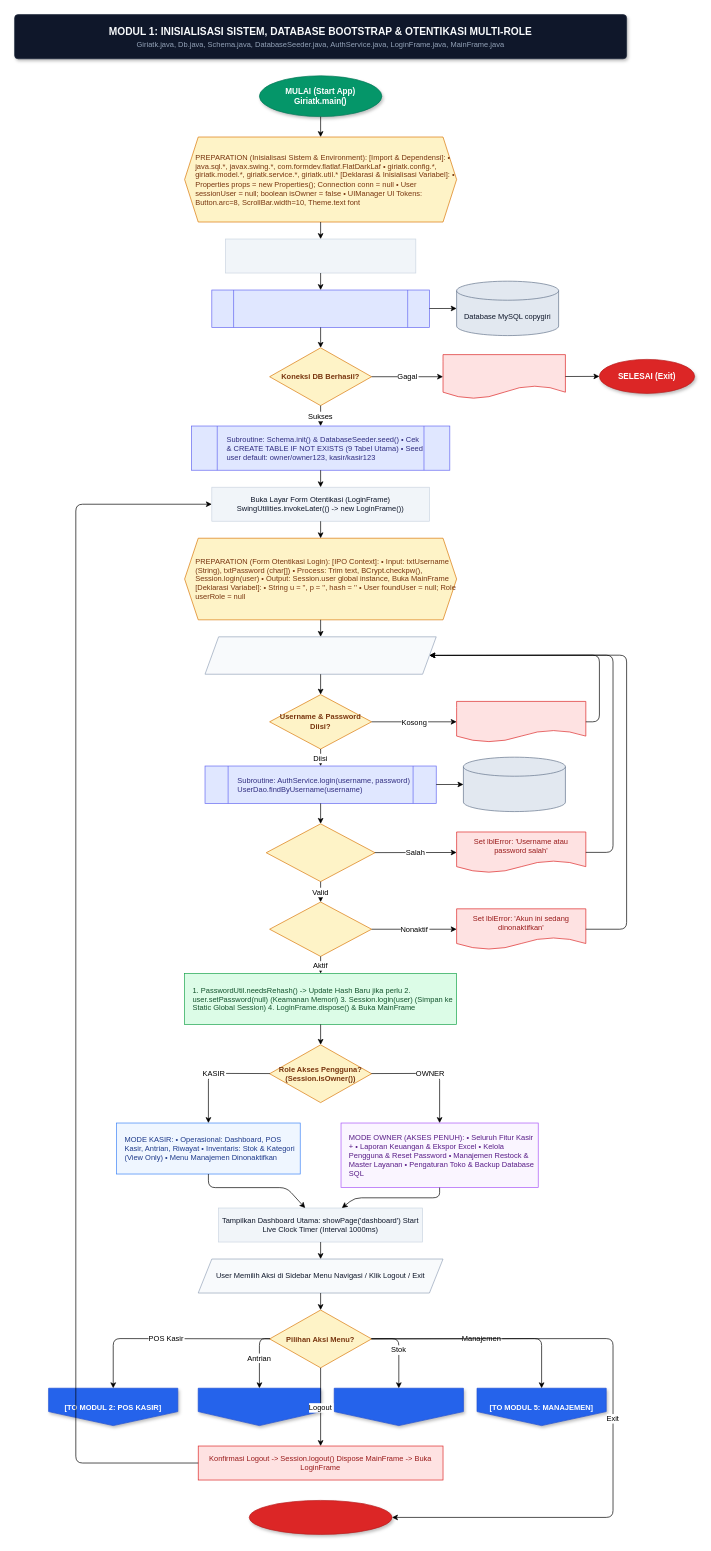
This 711x1551 diagram has some shape labels left out. Here are the shapes that lost their labels. From the top down, the centre of each, then its label:
At (x=320, y=255): "Set Look & Feel FlatDarkLaf UIManager.setLookAndFeel(new FlatDarkLaf())".
At (x=320, y=308): "Subroutine: Db.bootstrap() Load config/db.properties & Buka Pool Koneksi".
At (x=503, y=376): "Dialog Error: 'Koneksi Database Gagal' Periksa db.properties".
At (x=320, y=655): "User Menginput Username & Password Klik Tombol 'MASUK KE SISTEM' / Tekan Enter".
At (x=521, y=721): "Set lblError: 'Username dan password wajib diisi'".
At (x=514, y=784): "Tabel users SELECT * WHERE username = ?".
At (x=320, y=852): "User Ada & Password Hash Cocok?".
At (x=320, y=928): "Status Akun Aktif? (user.isAktif())".
At (x=260, y=1407): "[TO MODUL 3: ANTRIAN]".
At (x=399, y=1407): "[TO MODUL 4: INVENTARIS]".
At (x=321, y=1518): "SELESAI (Exit Application)".
